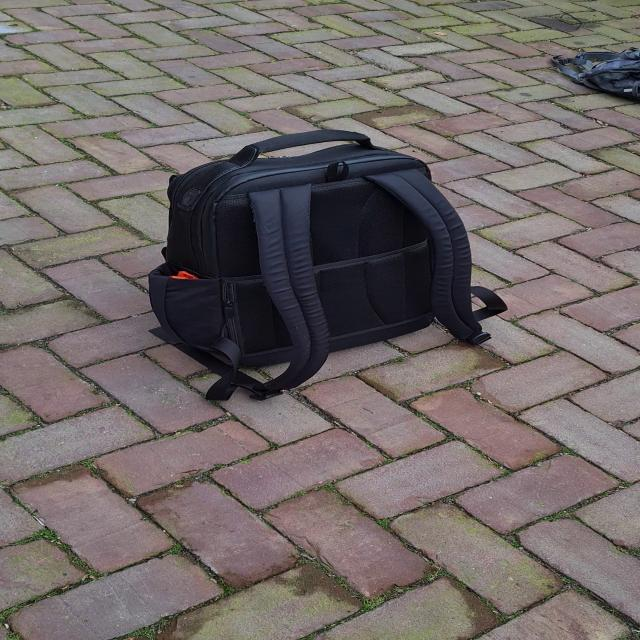backpack: (142, 122, 508, 406)
